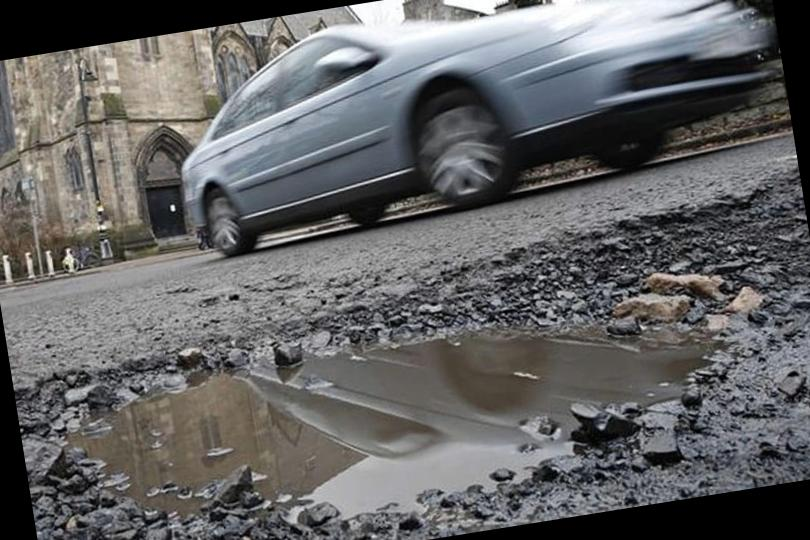pothole: (10, 168, 810, 540)
